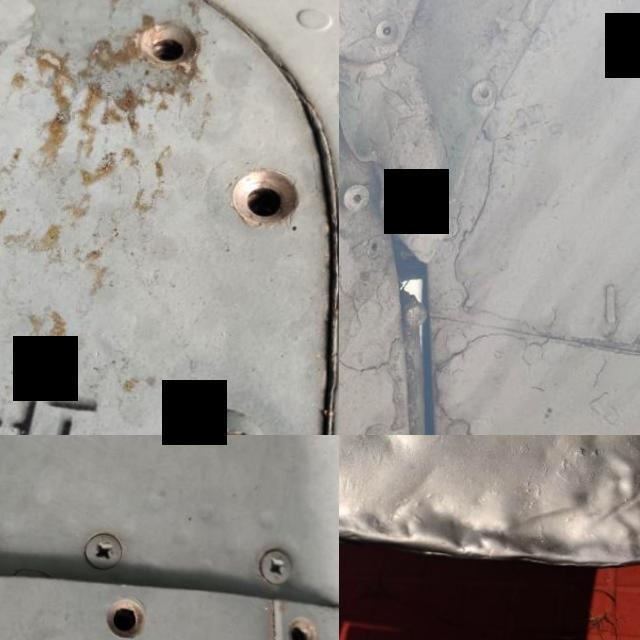Crack: (364, 152, 414, 225)
Dent: (339, 474, 591, 572), (549, 435, 640, 575), (348, 435, 438, 470)
Missing_Fastener: (205, 133, 333, 253), (94, 0, 235, 107), (81, 578, 179, 640), (260, 587, 339, 640)
